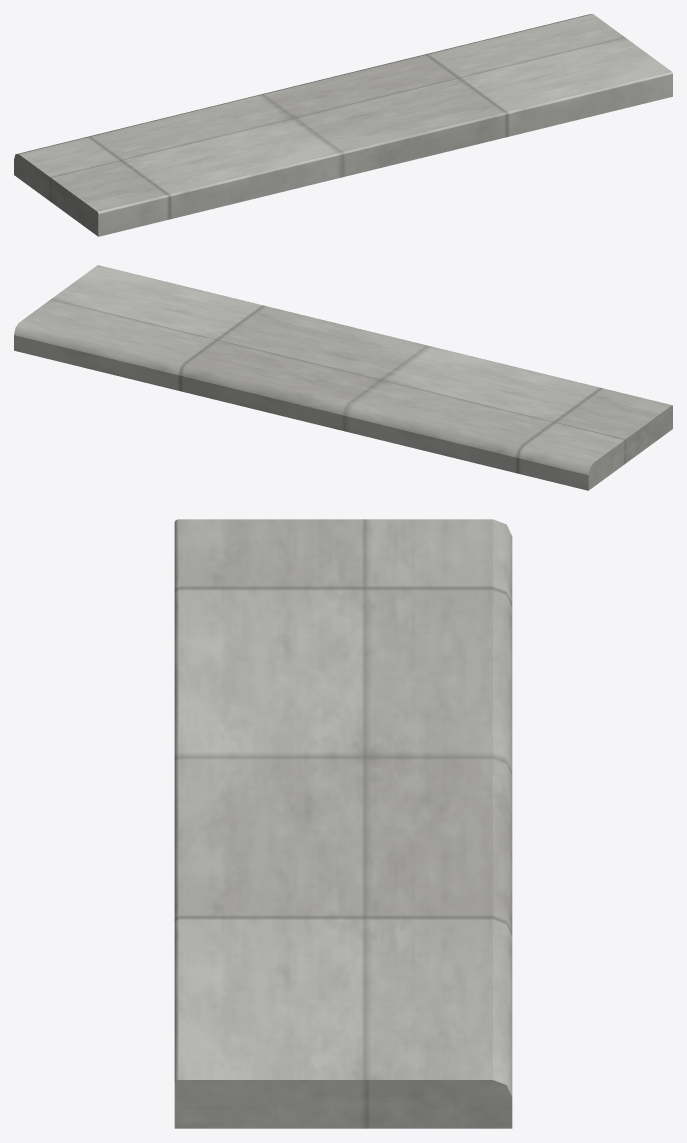
Rendered from çift şeritli yol kaldırımı.fbx.
3 renders of one model, top to bottom at view 1: azimuth 30°, elevation 25°; view 2: azimuth 150°, elevation 25°; view 3: azimuth 270°, elevation 25°, orthographic. The views are drawn at different scales.
Visible parts, largest first — view 1: Plane.001; view 2: Plane.001; view 3: Plane.001.
Part boxes in pixels (x1,y1,x2,y2): Plane.001: [14, 14, 672, 236]; Plane.001: [14, 265, 672, 490]; Plane.001: [174, 519, 512, 1128].
Bounding box in the file's own units: 1048 × 42.43 × 267.
1 material, 1 textured.
